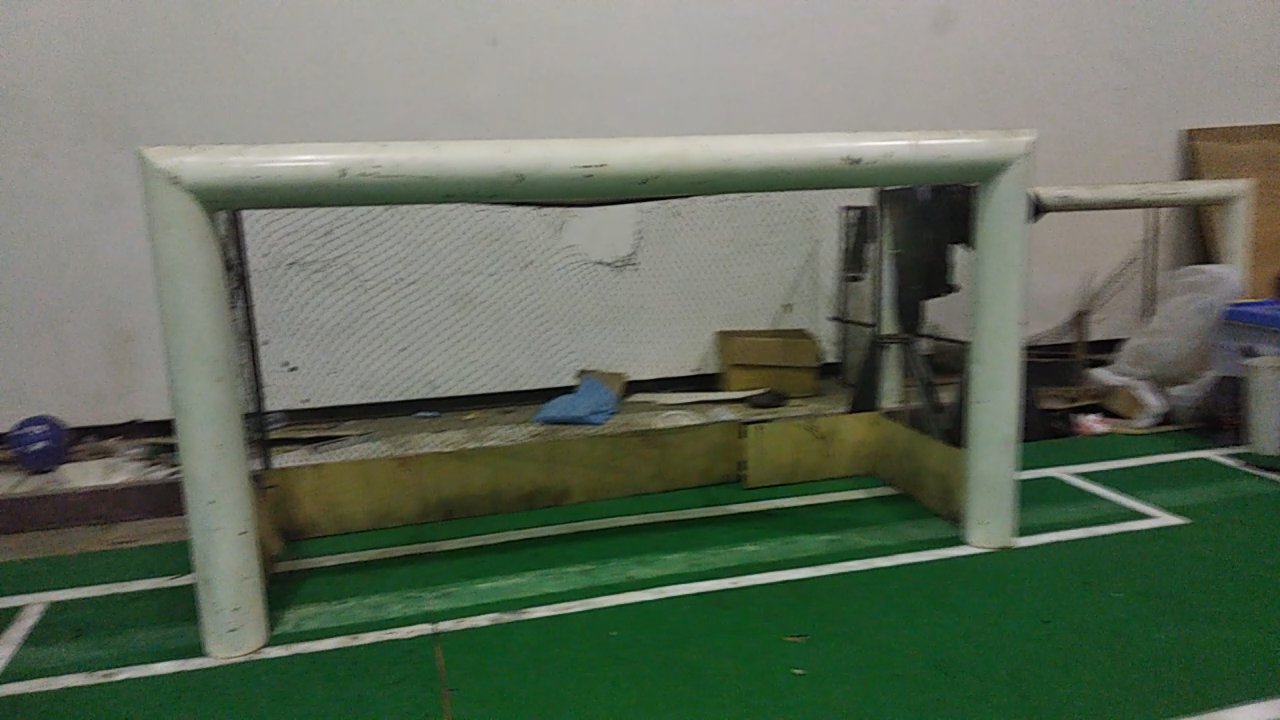gawang: (124, 109, 1055, 672)
